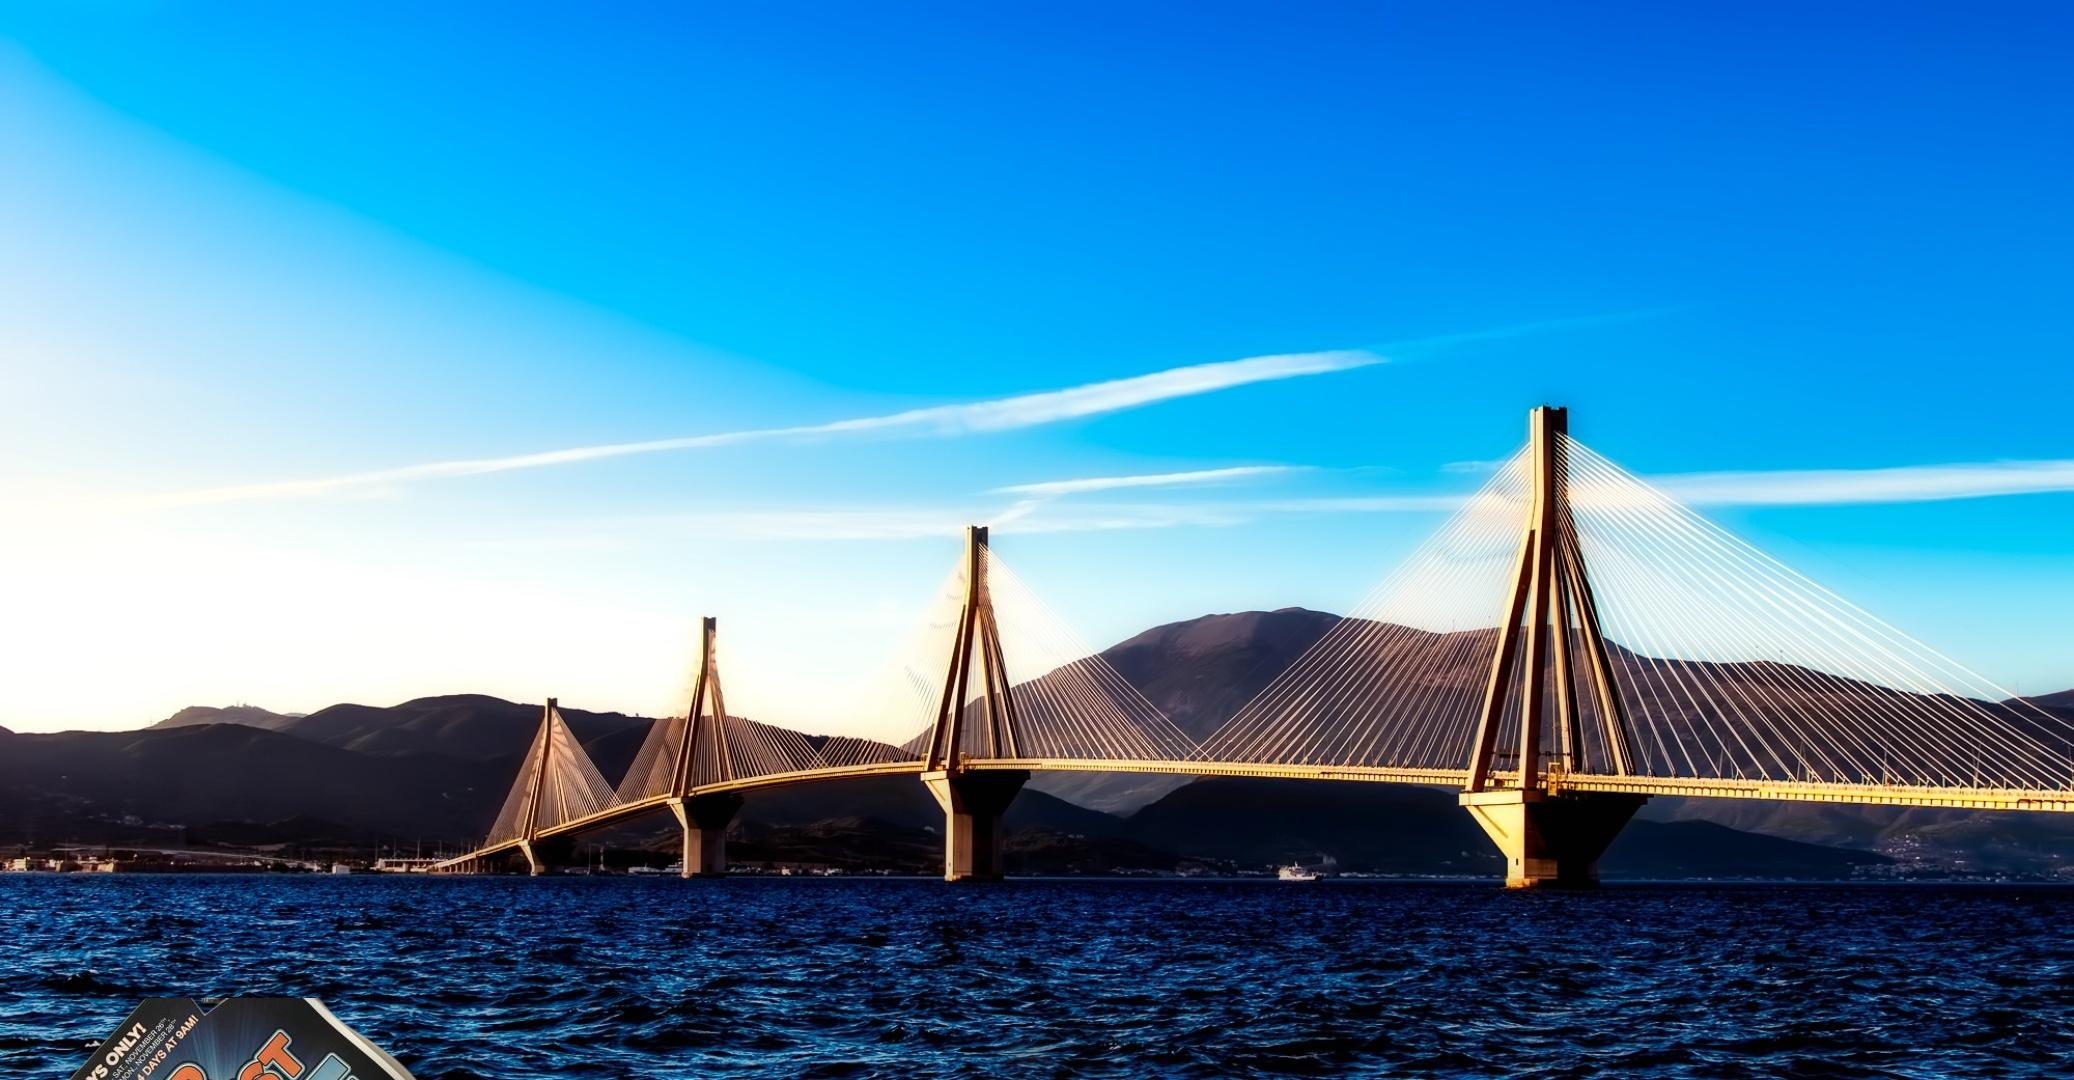biological: (676, 970, 1215, 1080)
paper: (8, 998, 512, 1080)
